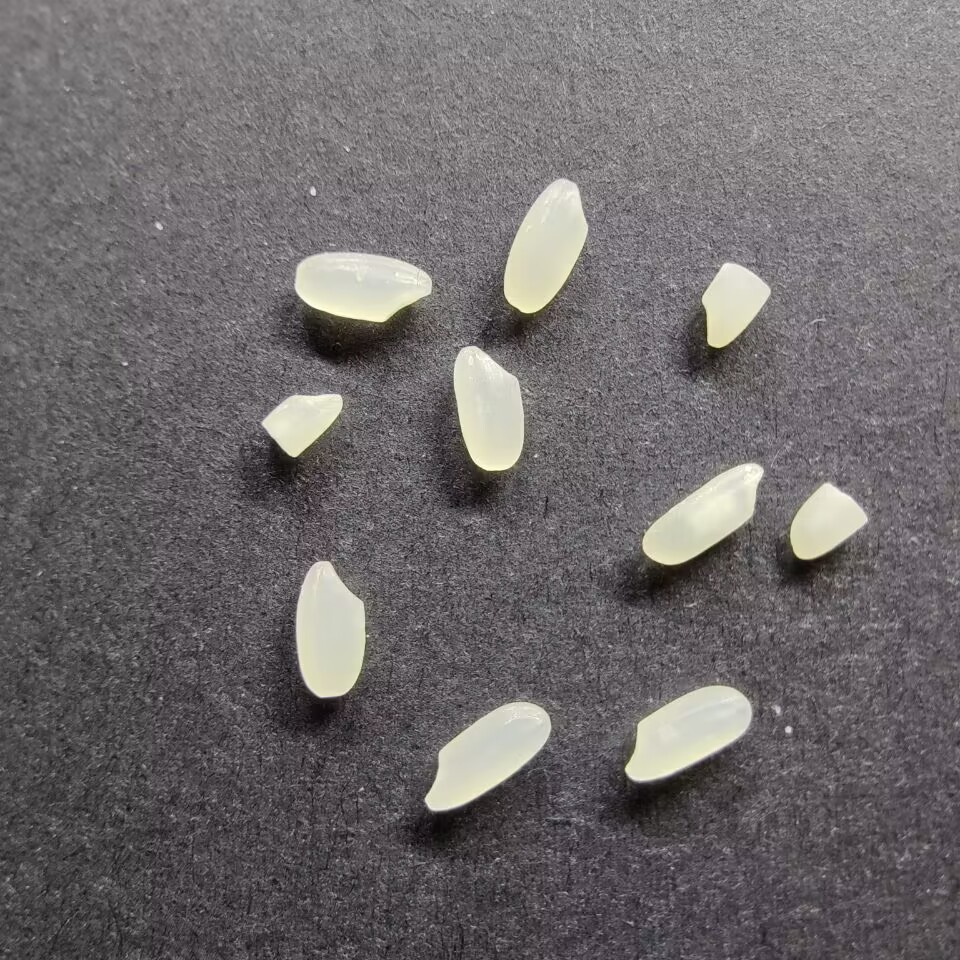broken: (788, 480, 869, 561), (700, 261, 772, 348), (260, 391, 348, 458)
rice: (421, 701, 551, 814), (637, 459, 764, 566), (621, 684, 754, 782), (501, 177, 590, 314), (293, 250, 434, 323), (293, 560, 366, 699), (451, 344, 526, 472)
